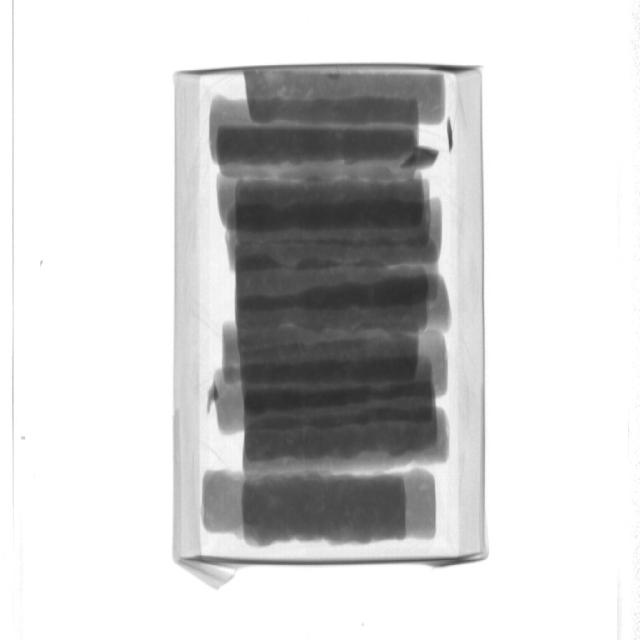ym: (400, 146, 441, 169), (206, 382, 219, 415), (446, 116, 454, 155)
